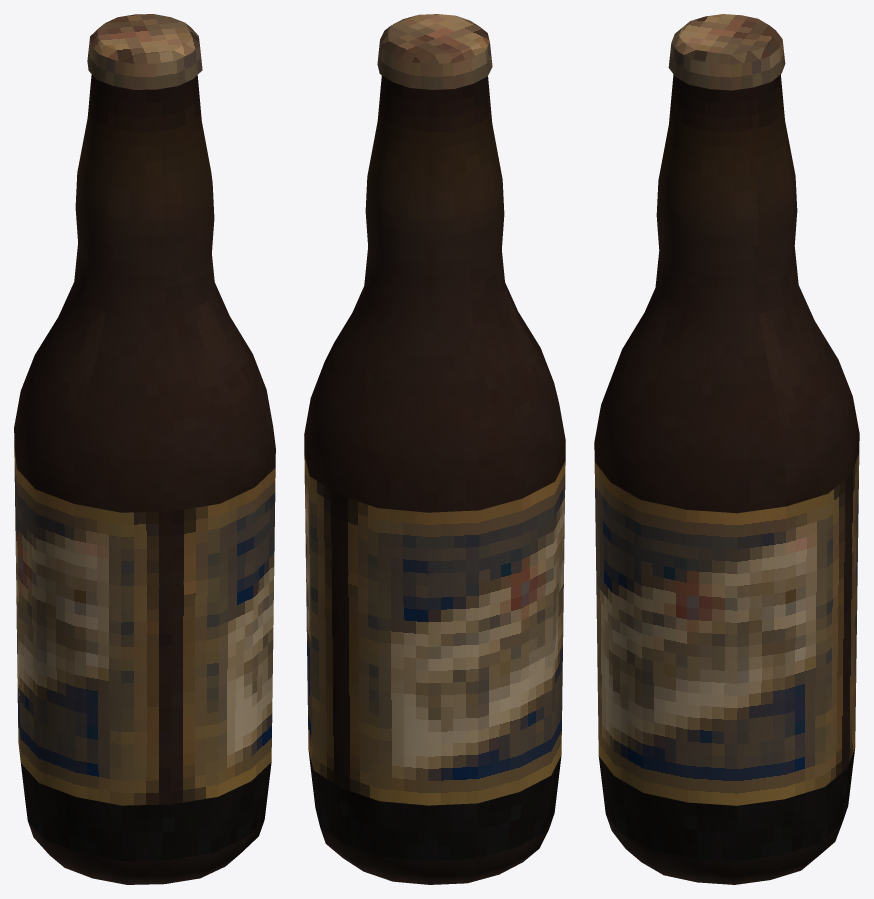
Rendered from glass_bottle_1.obj.
The picture shows the model from 3 angles, left to right: view 1: azimuth 30°, elevation 25°; view 2: azimuth 150°, elevation 25°; view 3: azimuth 270°, elevation 25°; orthographic projection.
Visible parts, largest first — view 1: glass_bottle_1; view 2: glass_bottle_1; view 3: glass_bottle_1.
Part boxes in pixels (x1,y1,x2,y2): glass_bottle_1: (14, 14, 275, 884); glass_bottle_1: (304, 14, 565, 884); glass_bottle_1: (594, 14, 859, 884).
Bounding box in the file's own units: 0.1167 × 0.3931 × 0.1167.
